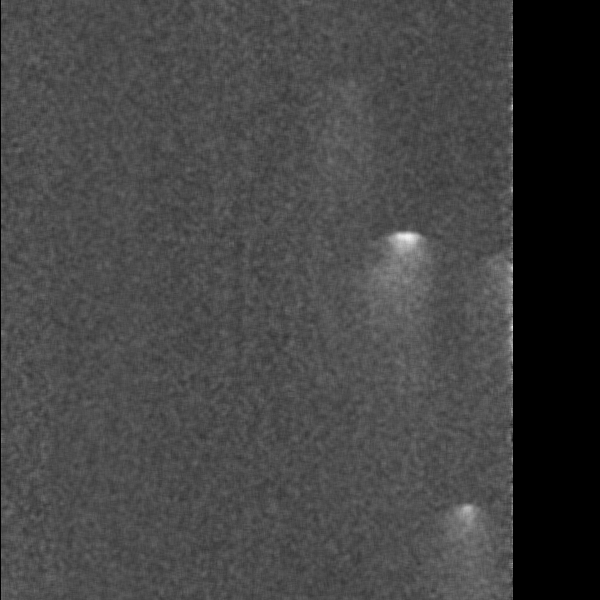spark: (371, 225, 432, 302), (450, 498, 485, 574)
